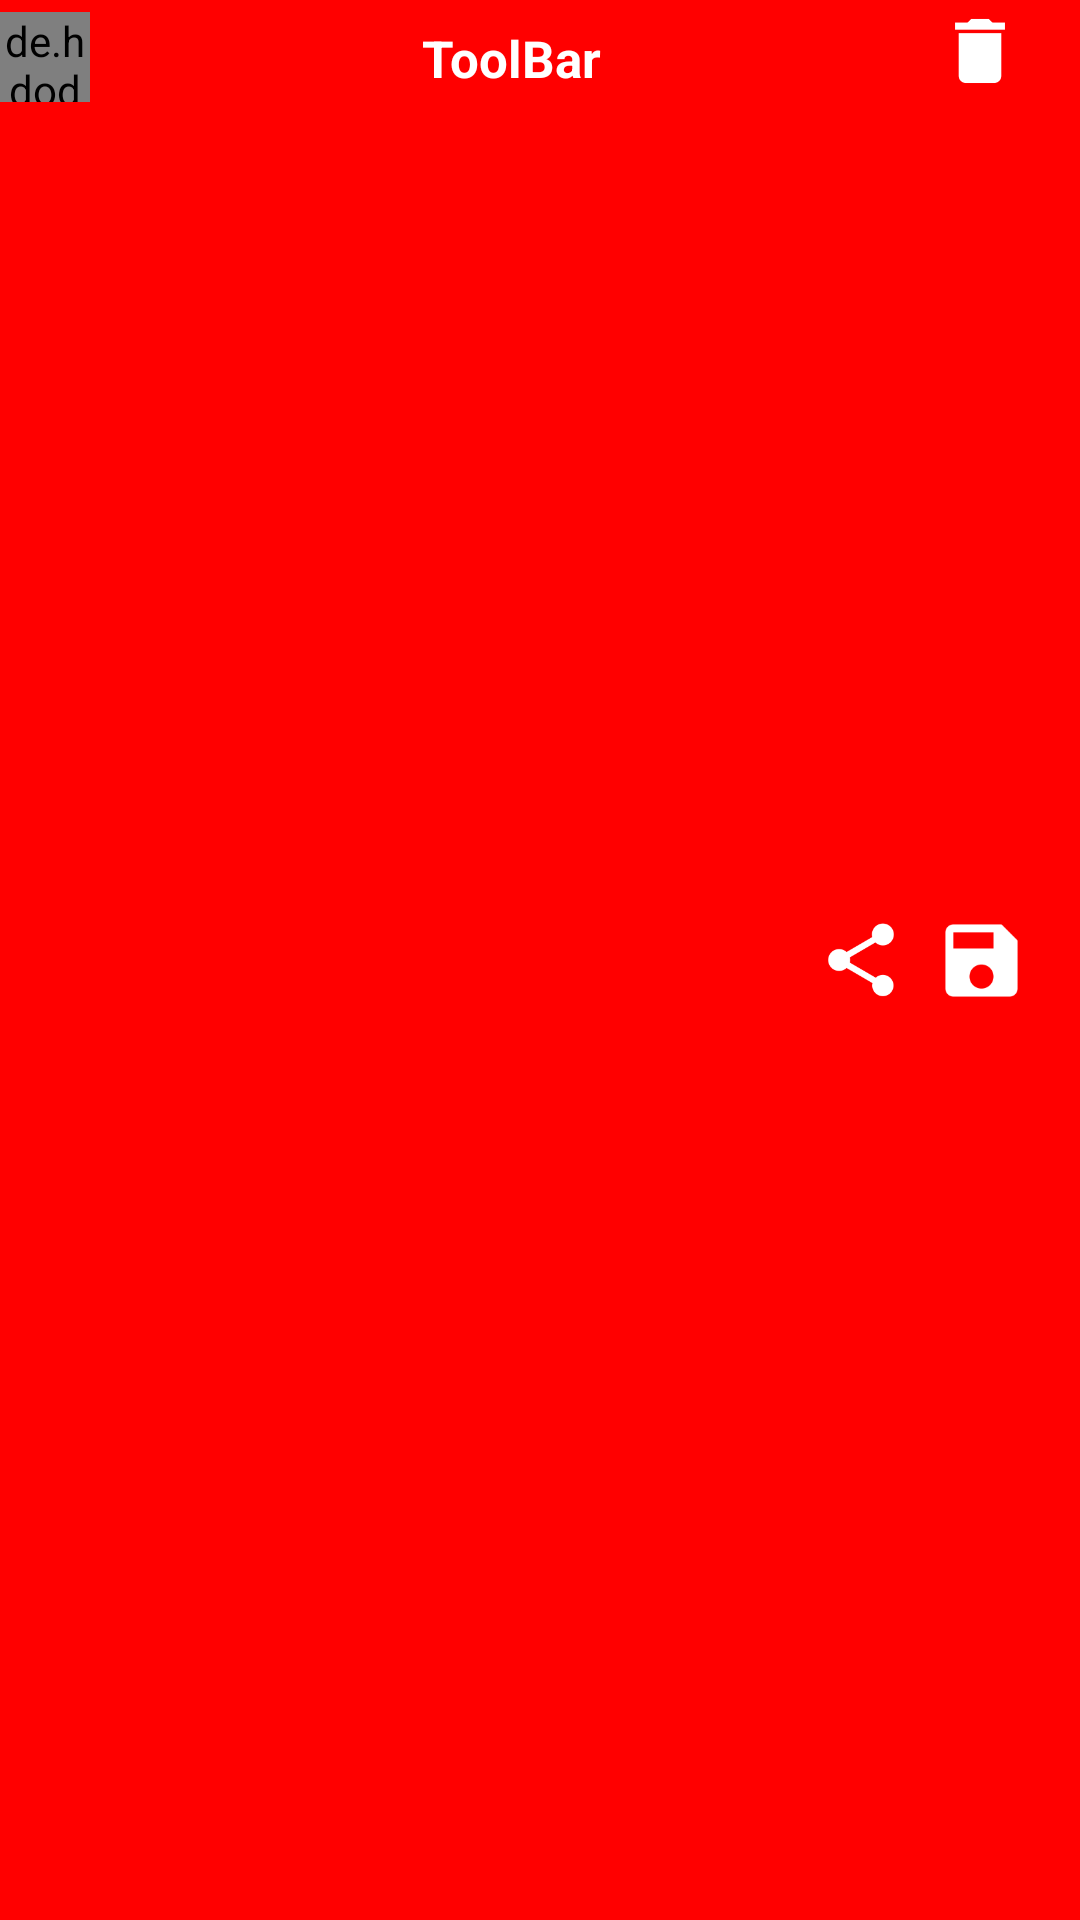

Icons on this 1080x1920 Android screen, each with the point to tap as [x,y]:
share: [861,959]
